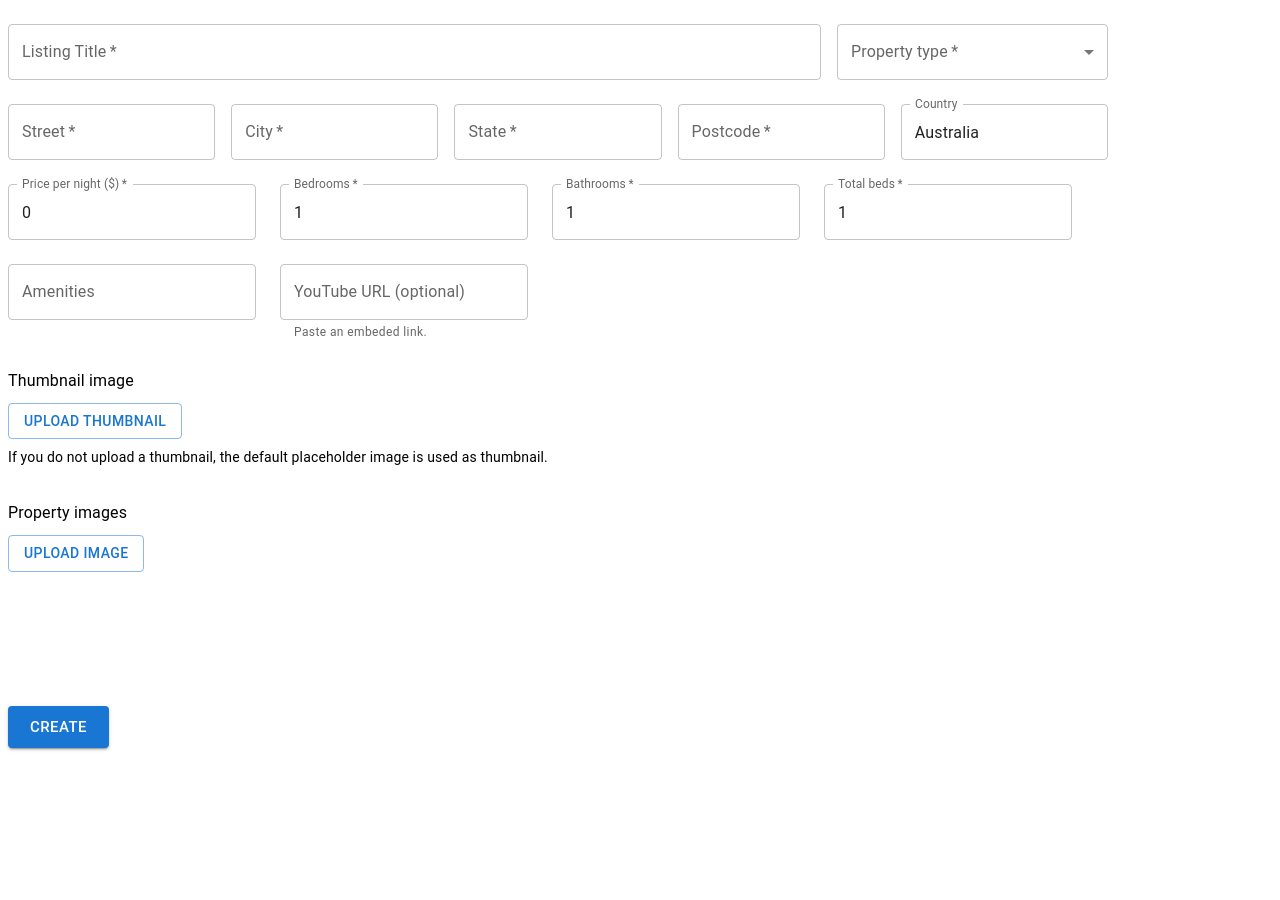
Test: ListingForm › allows adding multiple amenities
Note: Add first amenity
Type "WiFi" into the field labelled "Amenities". click: point(132, 292)
box: [8,264,256,320]
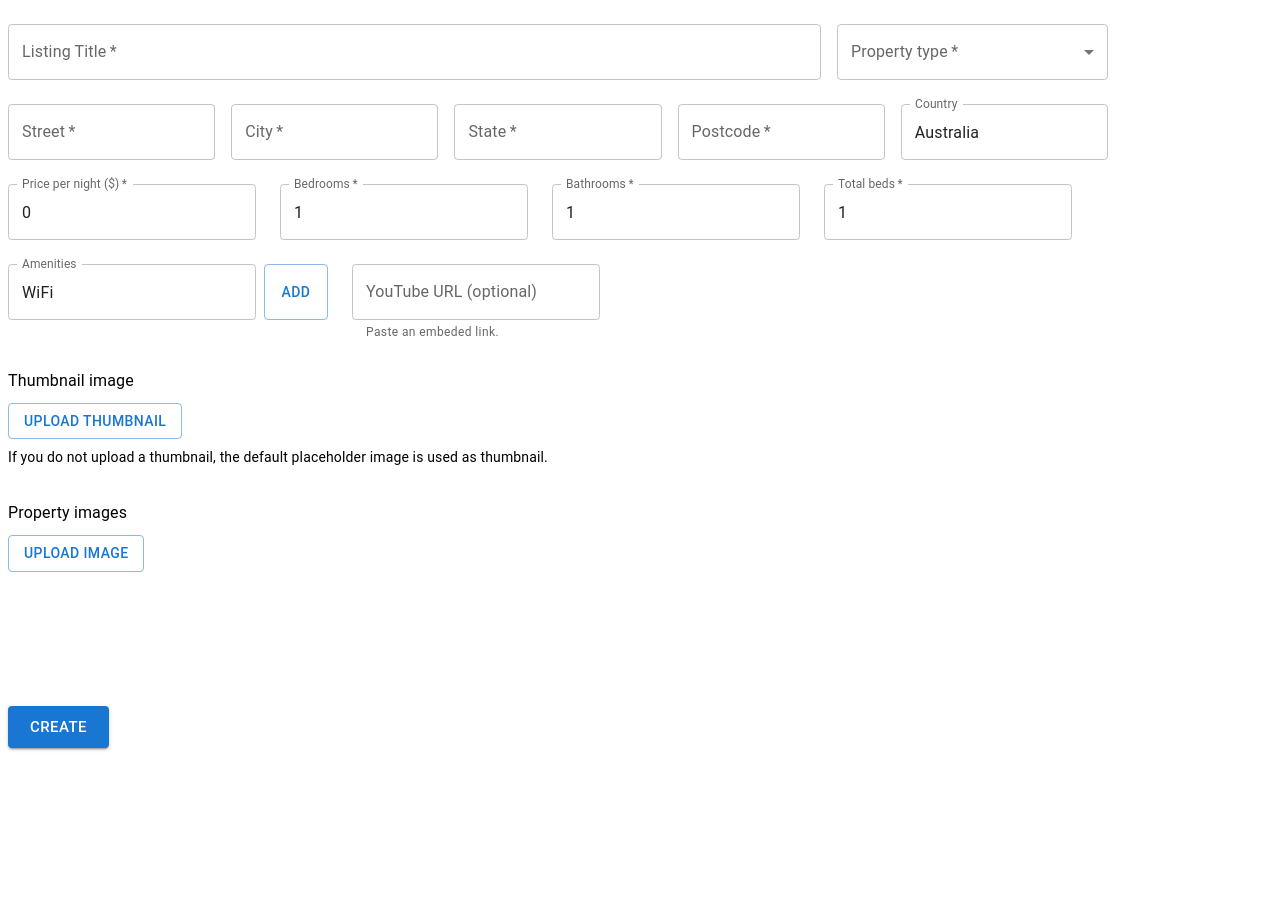
Click the button "Add". click: point(296, 292)
box: [264,264,328,320]
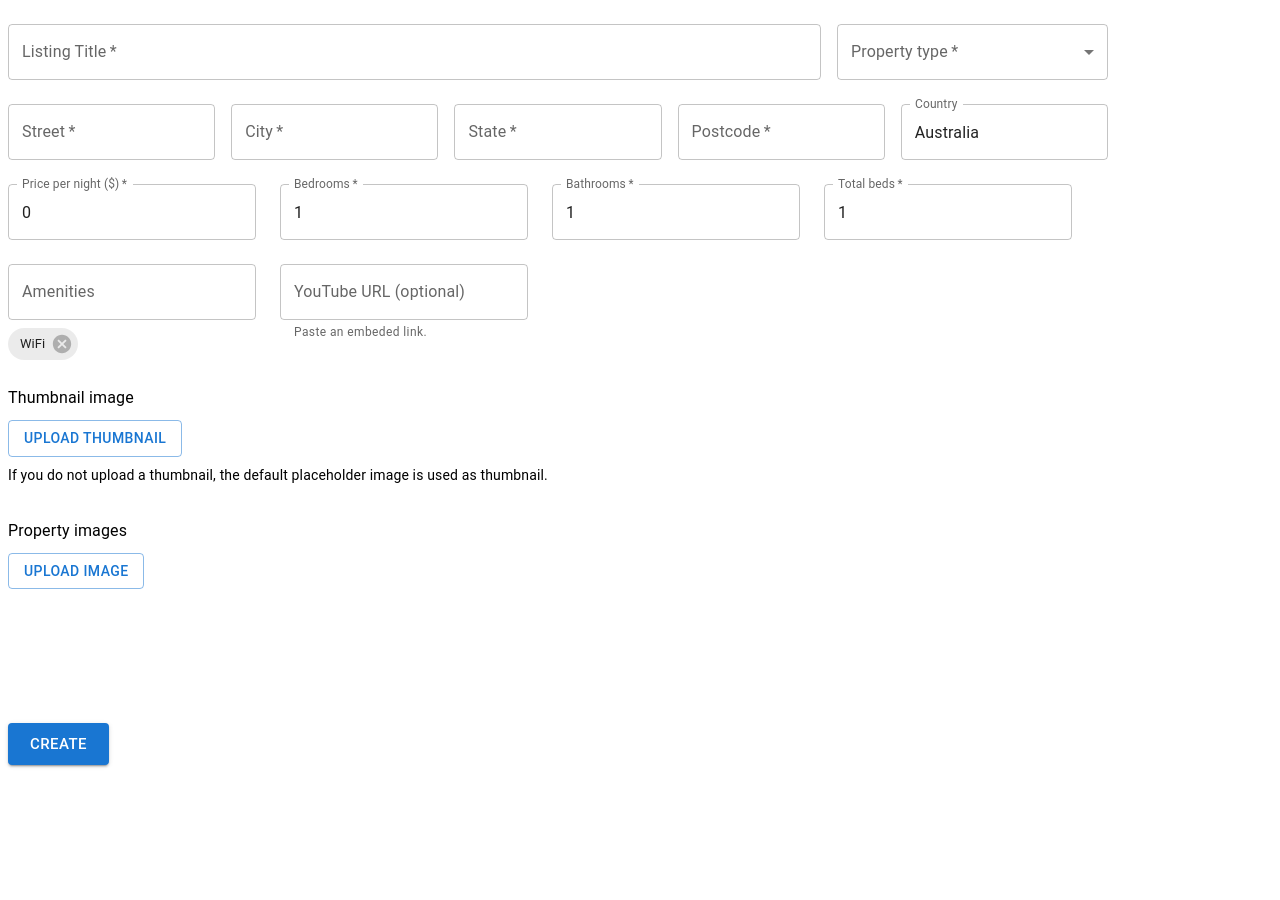
expect the text "WiFi" is shown: met, box [20,336,45,351]
Note: Add second amenity
Type "Parking" into the field labelled "Amenities". click: point(132, 292)
box: [8,264,256,320]
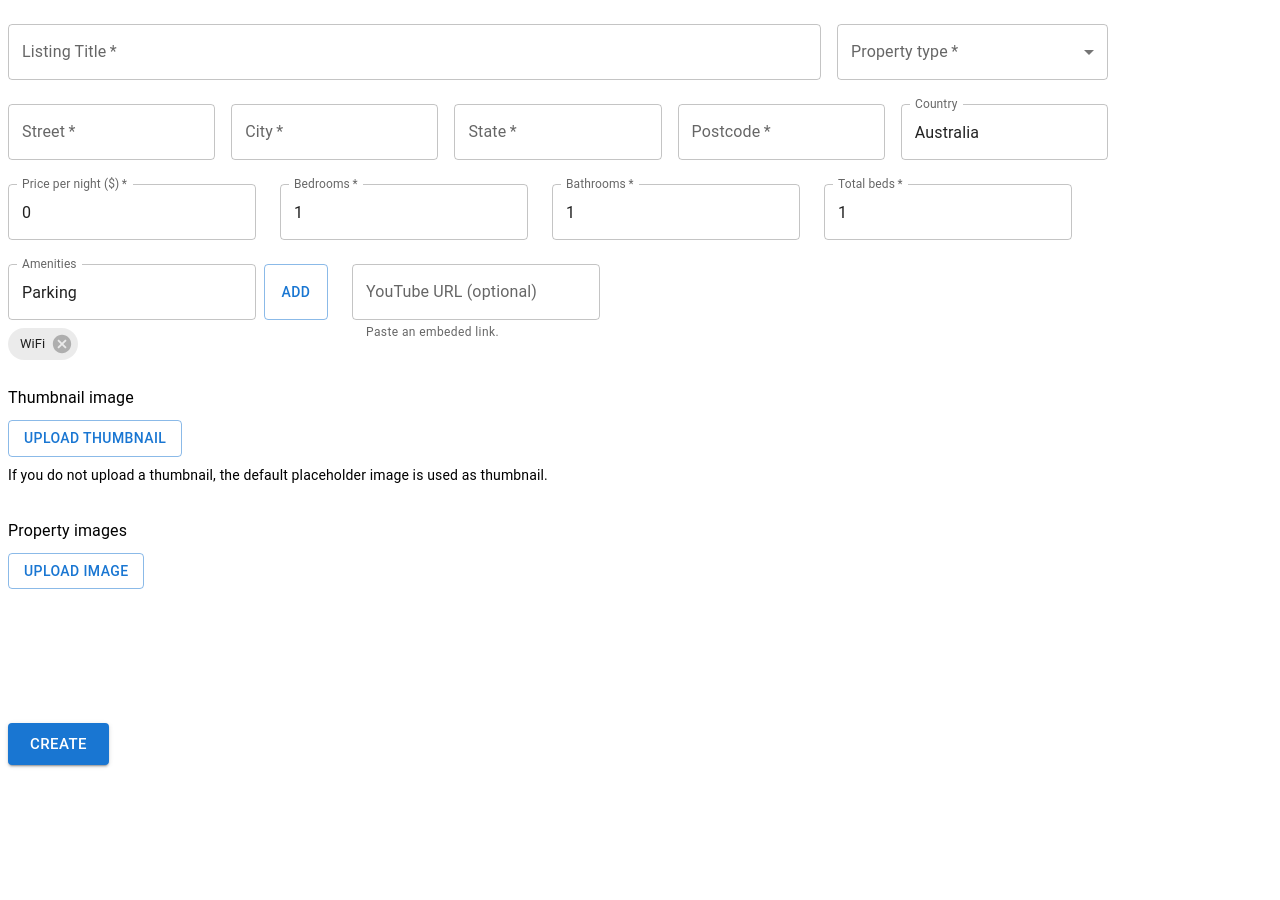
Click the button "Add". click: point(296, 292)
box: [264,264,328,320]
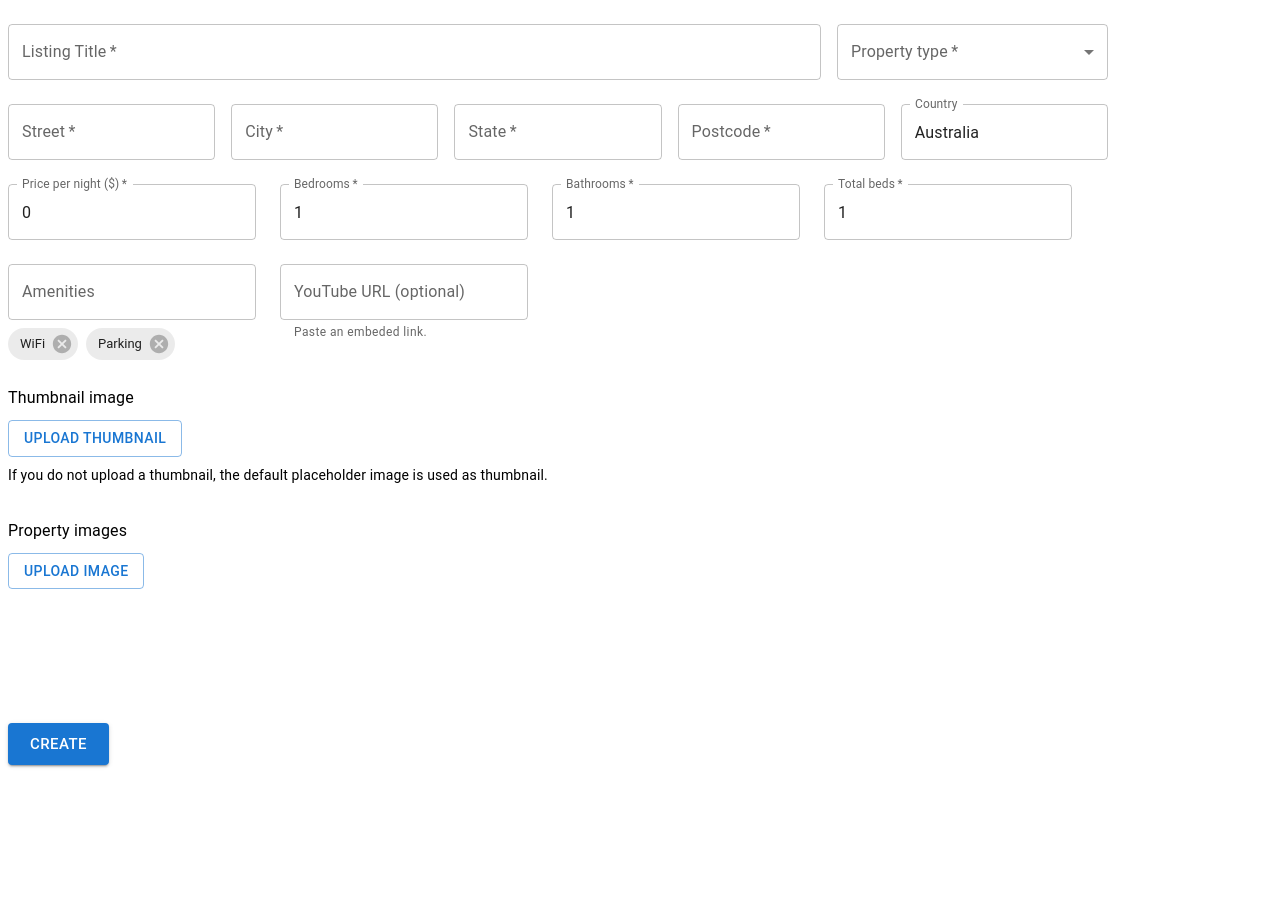
expect the text "WiFi" is shown: met, box [20,336,45,351]
expect the text "Parking" is shown: met, box [98,336,142,351]
